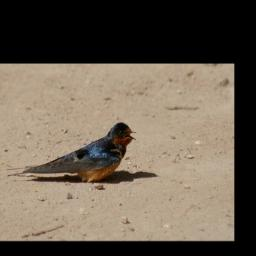Swallow: (7, 121, 136, 181)
